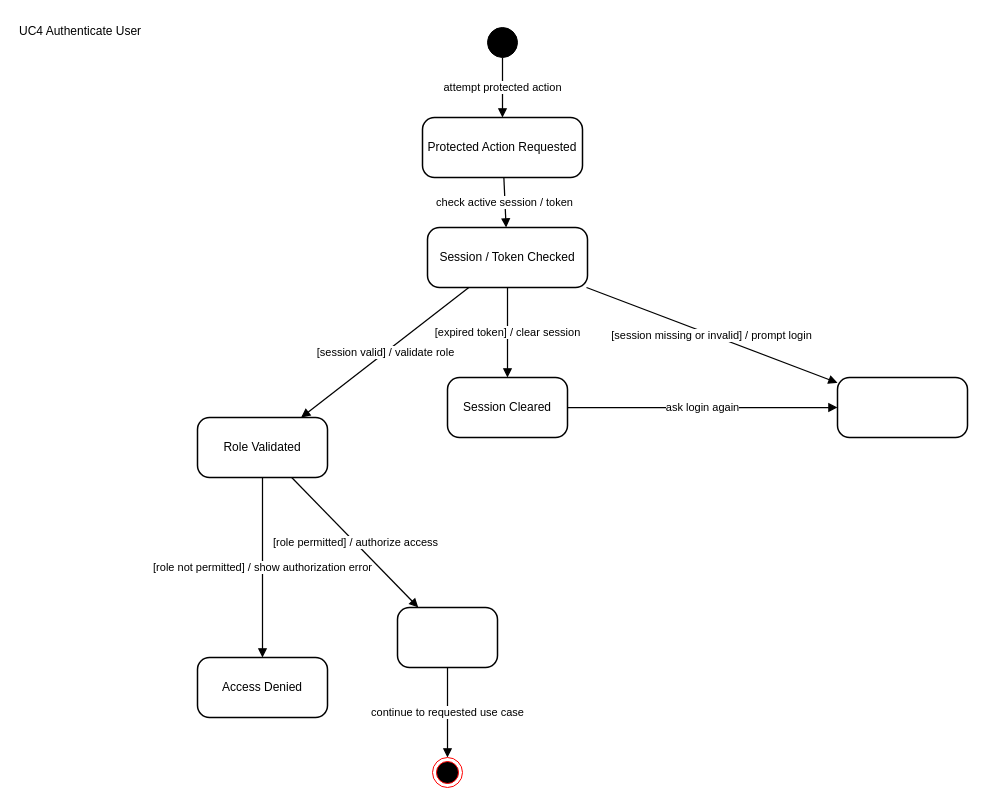
The diagram is 985 pixels wide and 805 high, and some of its shapes have lost their labels. The centre of each missing label's shape, as x and y in pixels:
Authorized: (x=447, y=637)
Login Required: (x=902, y=407)
